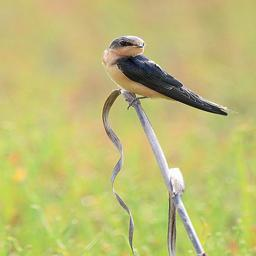Swallow: (101, 31, 242, 120)
